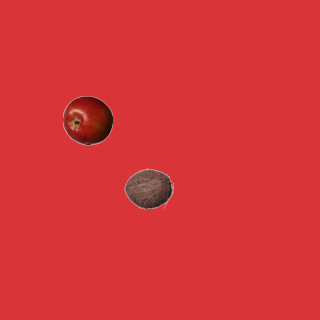Apple Braeburn: (62, 95, 112, 145)
Cocos: (123, 163, 173, 213)
